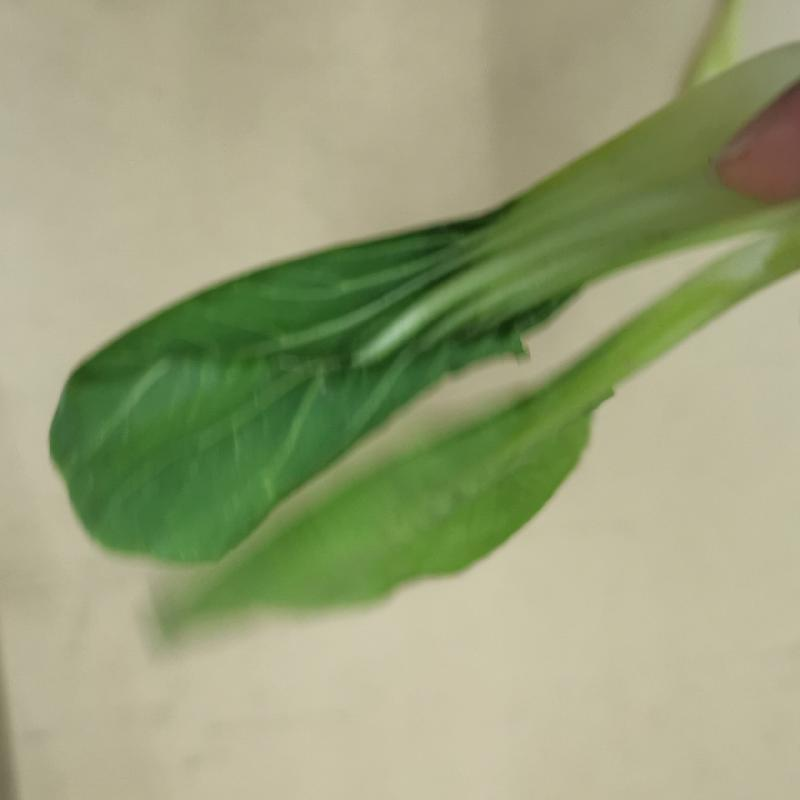green vegatable: (47, 43, 800, 625)
